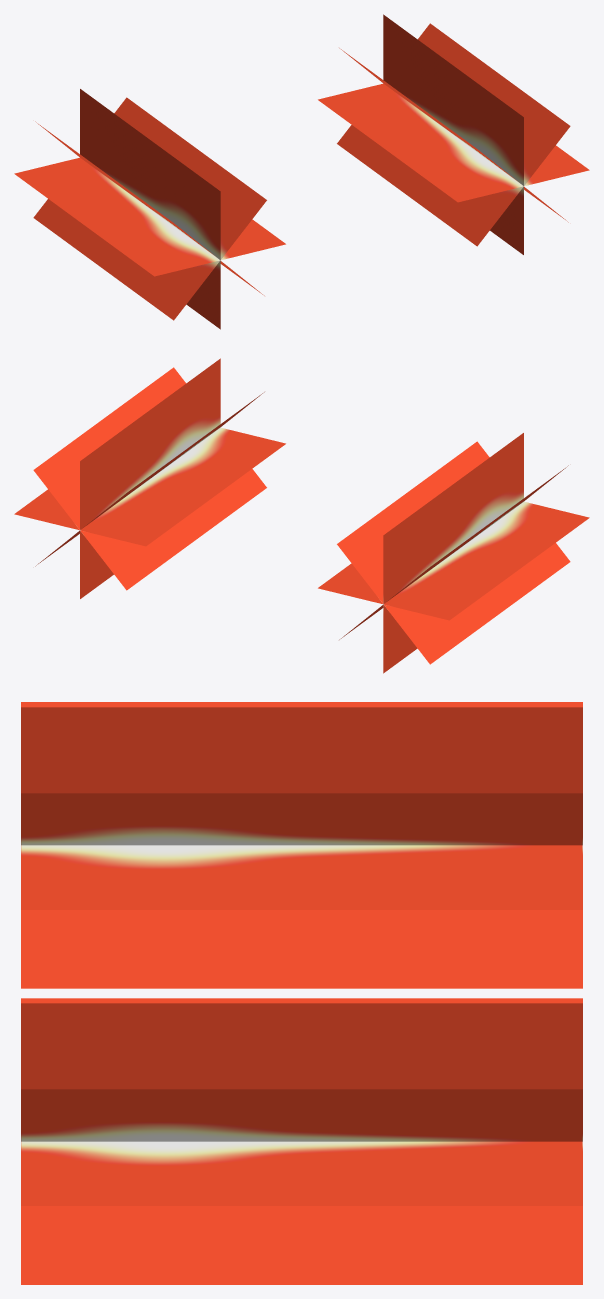
Rendered from Hover02_fire.obj.
The picture shows the model from 3 angles, top to bottom: view 1: azimuth 30°, elevation 25°; view 2: azimuth 150°, elevation 25°; view 3: azimuth 270°, elevation 25°; orthographic projection. The views are drawn at different scales.
Visible parts, largest first — view 1: h02_newfire hover02; view 2: h02_newfire hover02; view 3: h02_newfire hover02.
Part boxes in pixels (x1=…): h02_newfire hover02: x1=14, y1=14, x2=589, y2=329; h02_newfire hover02: x1=14, y1=358, x2=589, y2=673; h02_newfire hover02: x1=21, y1=702, x2=582, y2=1284.
Bounding box in the file's own units: 70.58 × 21.4 × 39.43.
